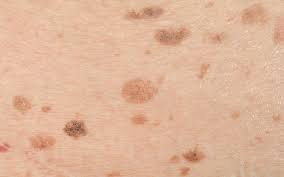Melasma: (4, 89, 93, 171), (136, 129, 222, 173), (126, 4, 193, 53), (115, 70, 166, 125), (199, 26, 234, 87), (225, 11, 284, 43)
